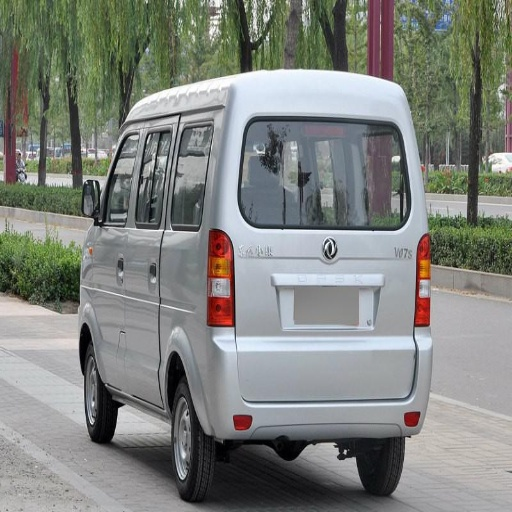back_bumper: (202, 327, 433, 437)
back_glass: (297, 196, 405, 229), (178, 117, 214, 165)
back_left_door: (353, 135, 398, 184)
back_left_light: (207, 256, 233, 327)
back_right_door: (244, 116, 341, 226)
trunk: (124, 231, 422, 393)
